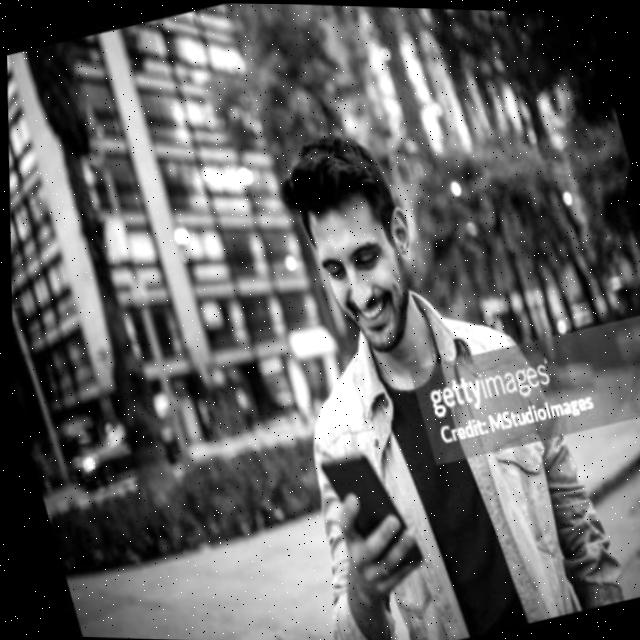phone: (312, 439, 423, 585)
